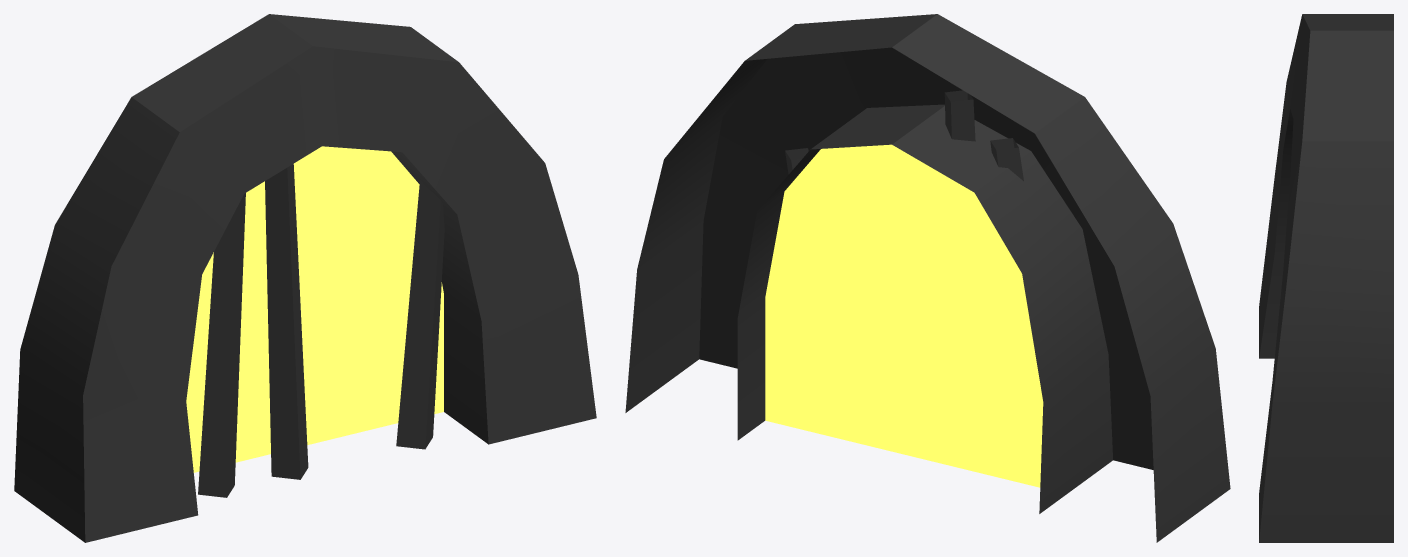
File: SM_BLD_window_v09_03.FBX
3 views of the same model, side by side, from view 1: azimuth 30°, elevation 25°; view 2: azimuth 150°, elevation 25°; view 3: azimuth 270°, elevation 25° (orthographic). The views are drawn at different scales.
Visible parts, largest first — view 1: SM_BLD_window_v09_03; view 2: SM_BLD_window_v09_03; view 3: SM_BLD_window_v09_03.
Boxes of the visible parts, x1,y1,x2,y2 form: SM_BLD_window_v09_03: (14, 14, 596, 542); SM_BLD_window_v09_03: (625, 14, 1230, 542); SM_BLD_window_v09_03: (1259, 14, 1393, 542).
Size of the model in its own units: 125 by 30.07 by 97.01.
